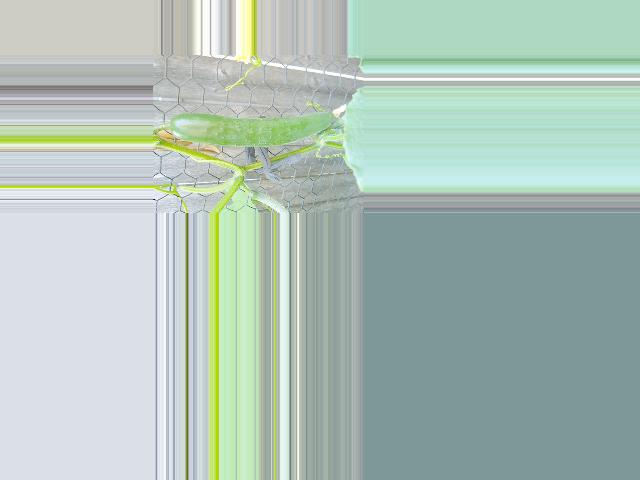cucumber: (169, 111, 332, 147)
